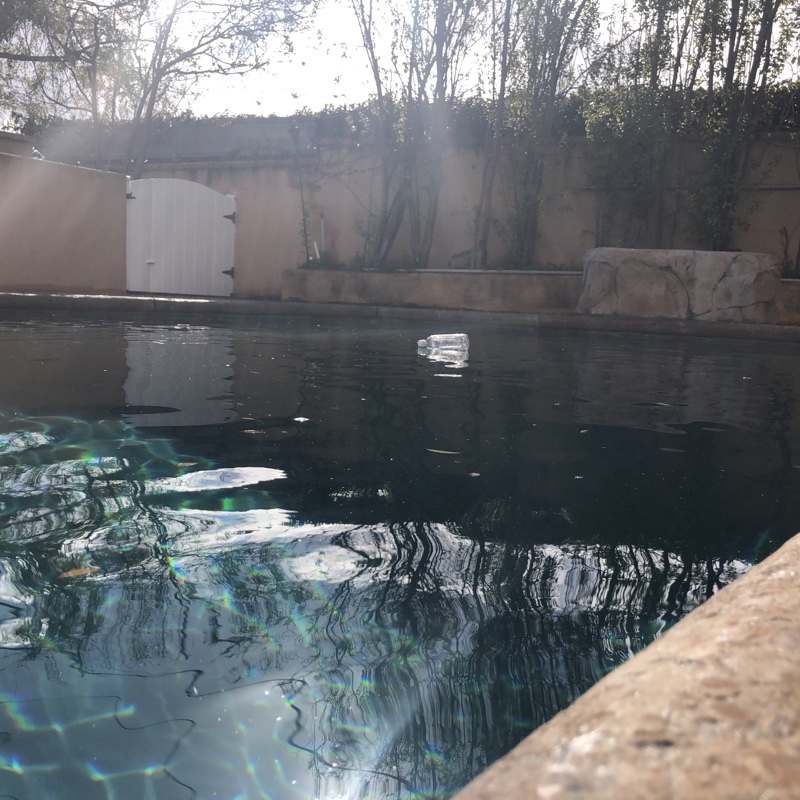Plastic Bottle: (419, 335, 471, 353)
